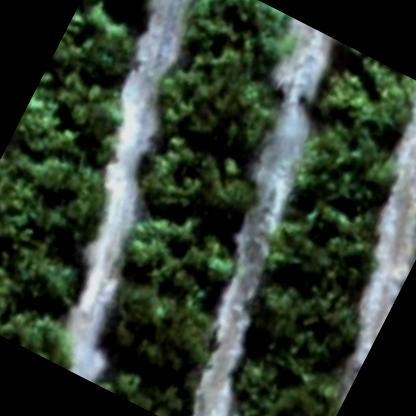Canopy-Citrus: (144, 26, 300, 170), (228, 255, 380, 399), (128, 118, 273, 244), (108, 193, 249, 320), (11, 56, 146, 186), (88, 265, 229, 389), (0, 127, 126, 262), (265, 184, 392, 300), (0, 192, 107, 320), (284, 114, 406, 225), (304, 42, 415, 153), (172, 0, 297, 81), (50, 0, 153, 98), (92, 333, 211, 415), (0, 266, 90, 370), (202, 359, 340, 415), (87, 0, 173, 19)
